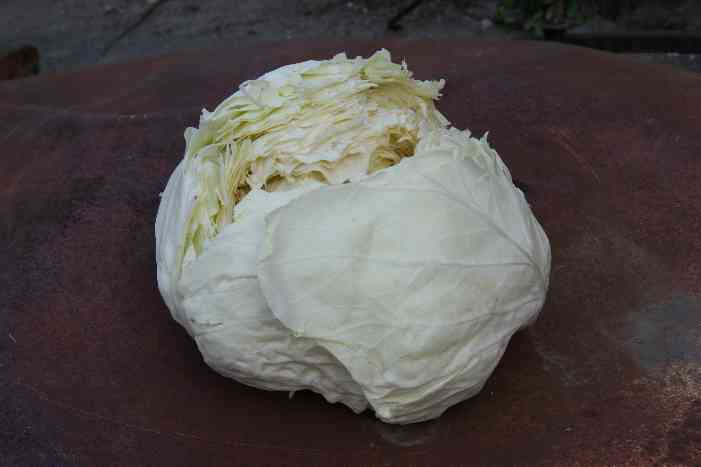cabbage: (151, 44, 551, 425)
